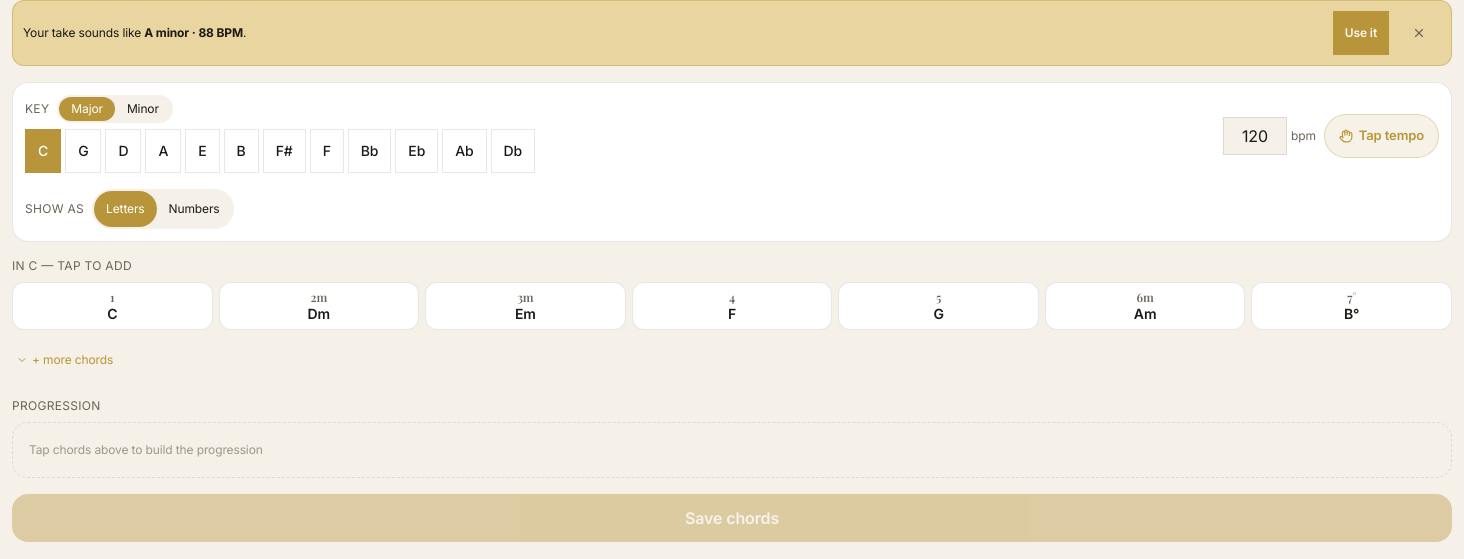
Test: ChordPicker — F13 confirm-or-change UX › shows a dismissible hint BESIDE a user-set key instead of replacing it
Expected: the text "Your take sounds like A minor · 88 BPM." is shown, [23,25,246,40]
Expected: the text "A minor · 88 BPM" is shown, [144,25,243,40]
What coordinates should you click on to do the following:
click the button "Use it"
I would click on:
 (1361, 33)
Its box is [1333,11,1389,55].
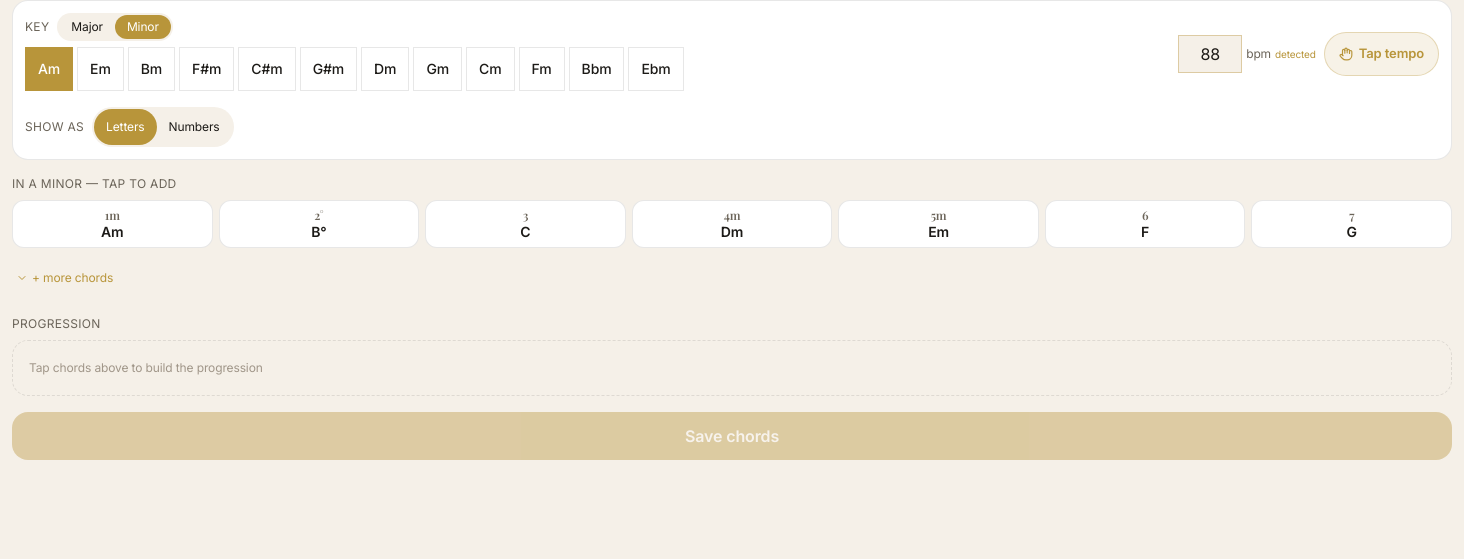
Result: the text "Your take sounds like" is gone
